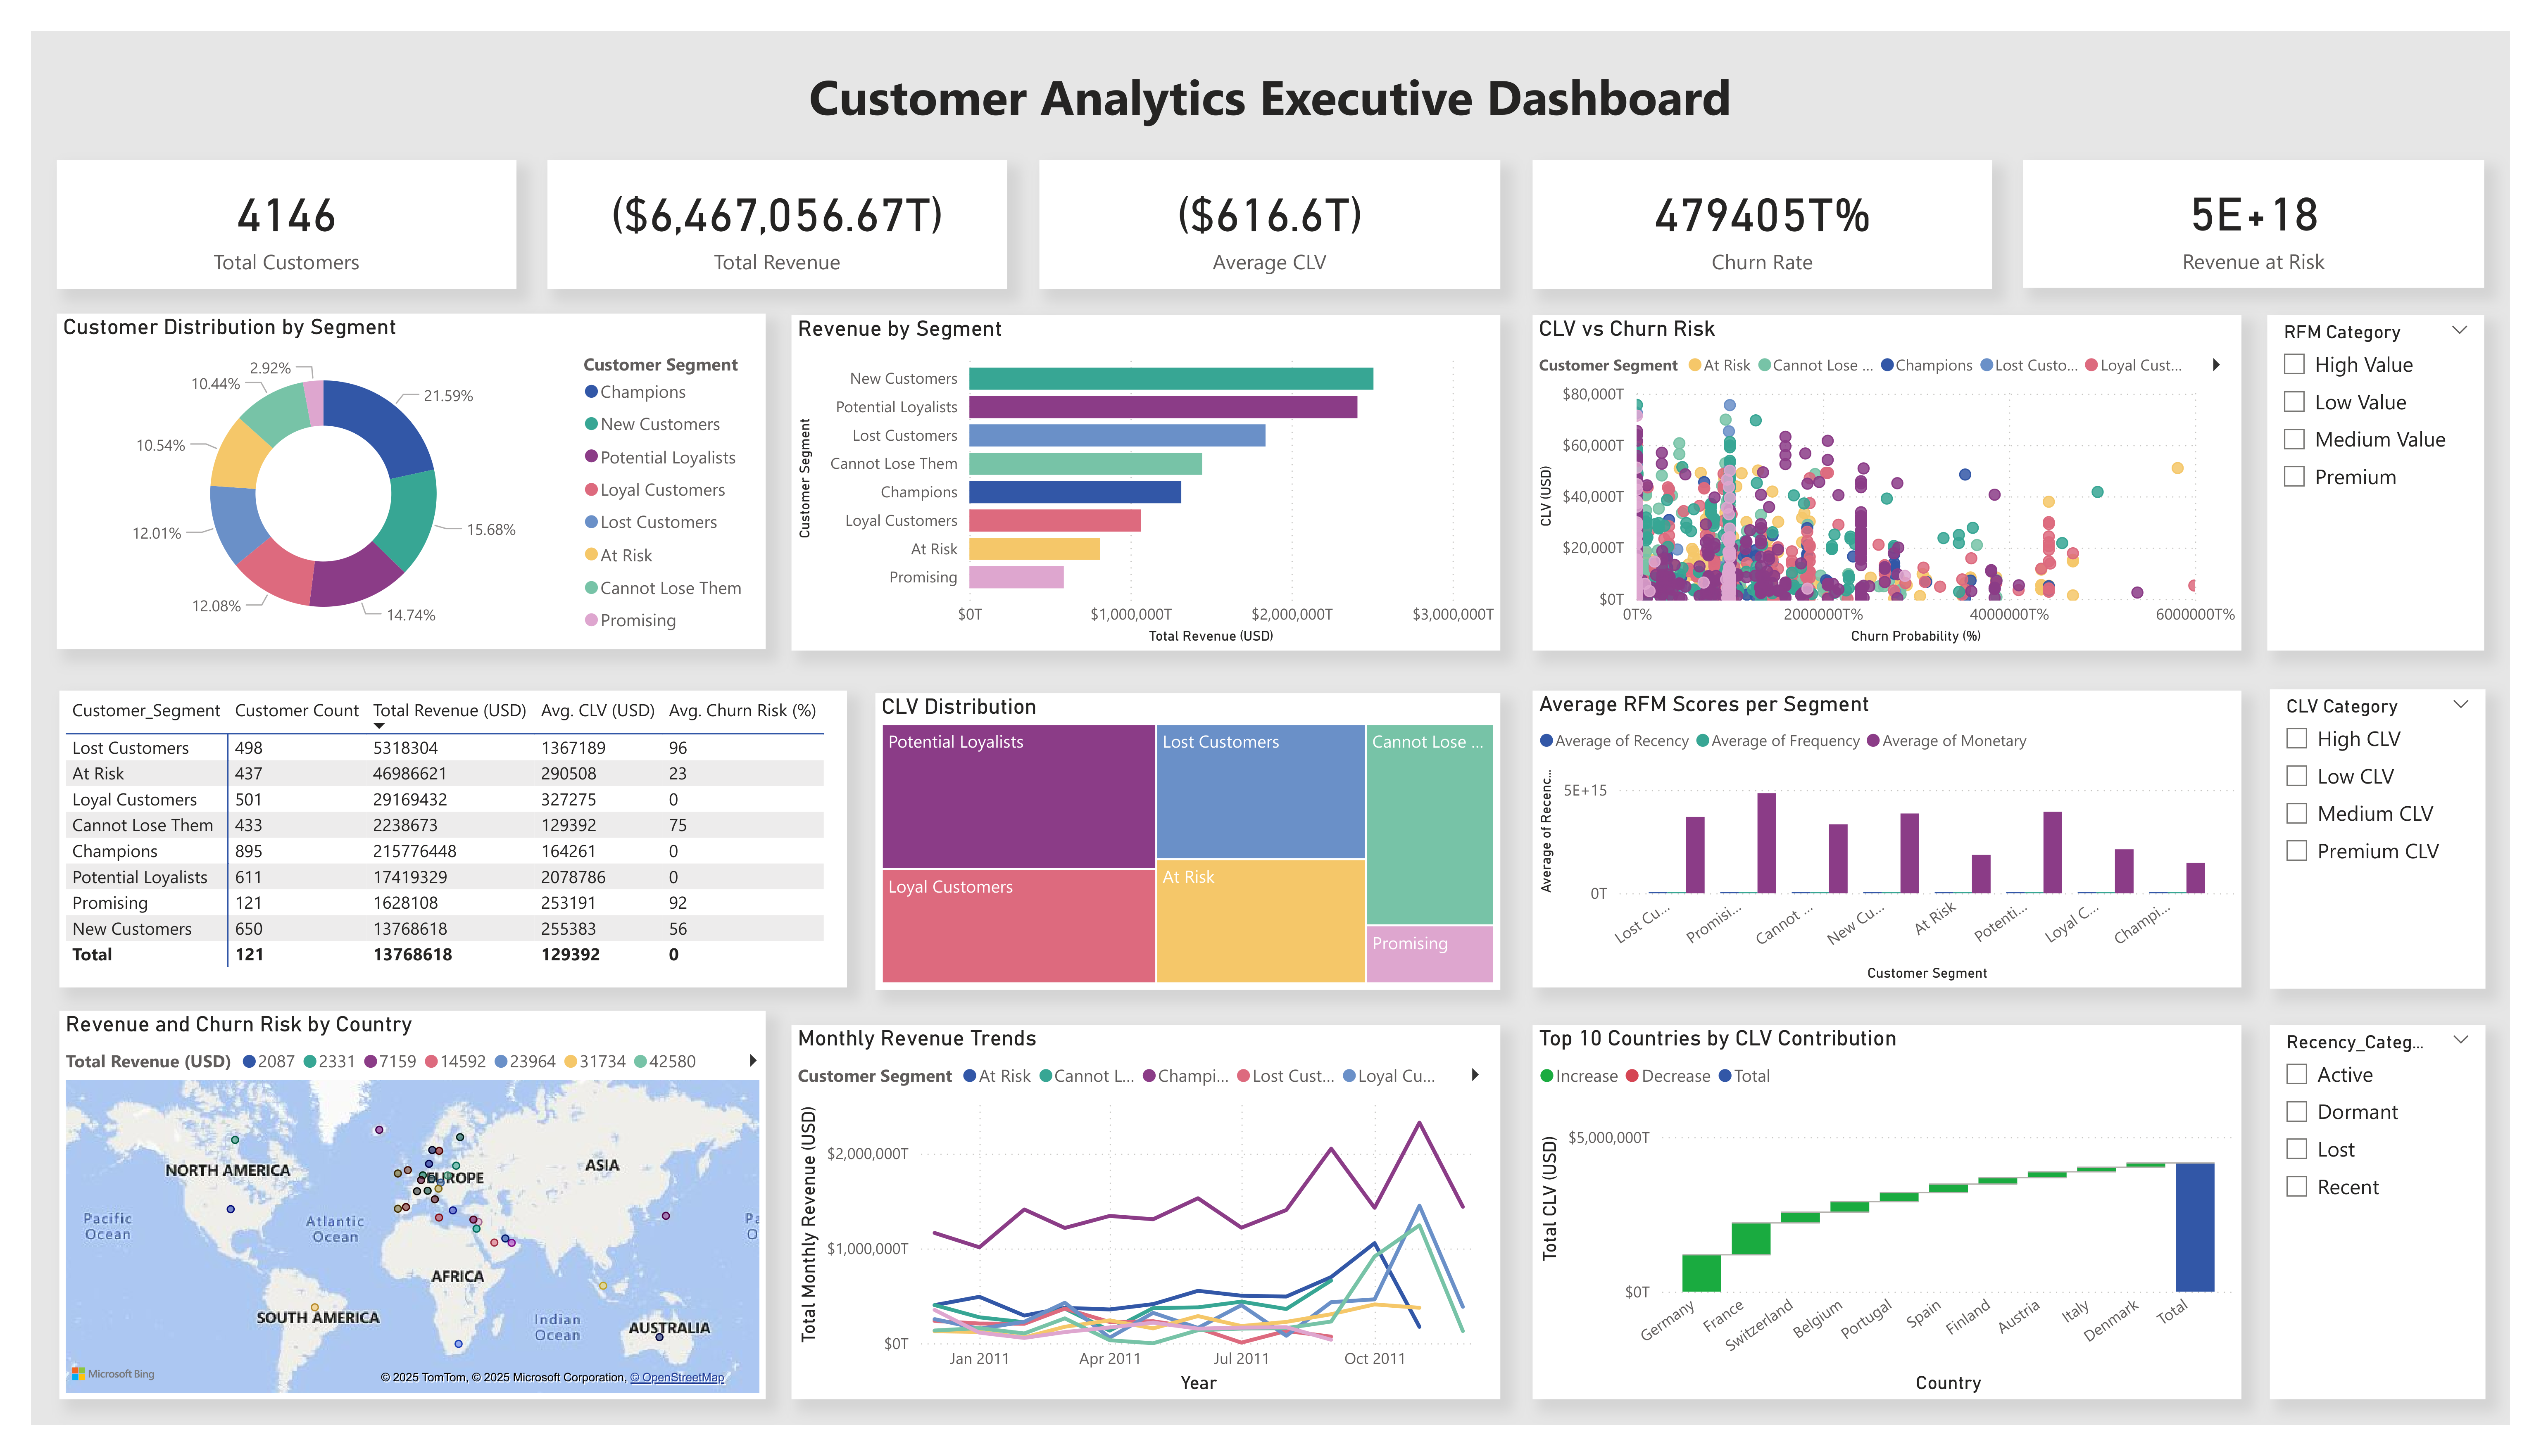

This screenshot's page, from the dashboard's own definition file:
{"tool":"powerbi","page":{"name":"Executive Dashboard","canvas":[1920,1080],"ordinal":0},"visuals":[{"type":"textbox","box":[20,20,1880,60],"z":0},{"type":"card","fields":{"Values":["CountNonNull(powerbi_customer_analysis.CustomerID)"]},"box":[20,100,356,100],"z":1000},{"type":"card","fields":{"Values":["Sum(powerbi_customer_analysis.Monetary)"]},"box":[400.3,100,356,100],"z":2000},{"type":"card","fields":{"Values":["Avg(powerbi_customer_analysis.CLV)"]},"box":[780.7,100,356.8,100],"z":3000},{"type":"card","fields":{"Values":["Avg(powerbi_customer_analysis.Churn_Probability)"]},"box":[1162.9,100,356,100],"z":4000},{"type":"donutChart","title":"Customer Distribution by Segment","fields":{"Category":["powerbi_customer_analysis.Customer_Segment"],"Y":["CountNonNull(powerbi_customer_analysis.CustomerID)"]},"box":[19.9,219.2,548.8,260],"z":5000},{"type":"barChart","title":"Revenue by Segment","fields":{"Category":["powerbi_customer_analysis.Customer_Segment"],"Y":["Sum(powerbi_customer_analysis.Monetary)"],"Series":["powerbi_customer_analysis.Customer_Segment"]},"box":[588.7,220,548.8,260],"z":6000},{"type":"slicer","fields":{"Values":["powerbi_customer_analysis.RFM_Category"]},"box":[1731.6,220,168.5,260],"z":7000},{"type":"card","fields":{"Values":["powerbi_country_analysis.Revenue at Risk"]},"box":[1543.2,99.6,356.8,99.6],"z":8000},{"type":"pivotTable","fields":{"Values":["Min(powerbi_segment_kpis.Customer_Count)","Min(powerbi_segment_kpis.Total_Revenue)","Min(powerbi_segment_kpis.Avg_CLV)","Min(powerbi_segment_kpis.Avg_Churn_Risk)"],"Rows":["powerbi_segment_kpis.Customer_Segment"]},"box":[21.7,510.8,610.4,230],"z":9000},{"type":"treemap","title":"CLV Distribution","fields":{"Group":["powerbi_customer_analysis.Customer_Segment"],"Values":["Sum(powerbi_customer_analysis.CLV)"]},"box":[653.9,512.6,483.6,230],"z":10000},{"type":"scatterChart","title":"CLV vs Churn Risk","fields":{"X":["powerbi_customer_analysis.Churn_Probability"],"Y":["powerbi_customer_analysis.CLV"],"Series":["powerbi_customer_analysis.Customer_Segment"]},"box":[1162.9,220,548.8,260],"z":11000},{"type":"clusteredColumnChart","title":"Average RFM Scores per Segment","fields":{"Category":["powerbi_customer_analysis.Customer_Segment"],"Y":["Avg(powerbi_customer_analysis.Recency)","Avg(powerbi_customer_analysis.Frequency)","Avg(powerbi_customer_analysis.Monetary)"]},"box":[1162.9,510.8,548.8,230],"z":12000},{"type":"map","title":"Revenue and Churn Risk by Country","fields":{"Category":["powerbi_country_analysis.Country"],"Series":["powerbi_country_analysis.Total_Revenue"]},"box":[21.7,758.9,547,300.7],"z":13000},{"type":"lineChart","title":"Monthly Revenue Trends","fields":{"Y":["Sum(powerbi_monthly_cohorts.Monthly_Revenue)"],"Series":["powerbi_monthly_cohorts.Customer_Segment"],"Category":["powerbi_monthly_cohorts.YearMonth.Variation.Date Hierarchy.Year","powerbi_monthly_cohorts.YearMonth.Variation.Date Hierarchy.Quarter","powerbi_monthly_cohorts.YearMonth.Variation.Date Hierarchy.Month","powerbi_monthly_cohorts.YearMonth.Variation.Date Hierarchy.Day"]},"box":[588.7,769.8,548.8,289.8],"z":14000},{"type":"waterfallChart","title":"Top 10 Countries by CLV Contribution","fields":{"Category":["powerbi_country_analysis.Country"],"Y":["Sum(powerbi_customer_analysis.CLV)"]},"box":[1162.9,769.8,548.8,289.8],"z":15000},{"type":"slicer","fields":{"Values":["powerbi_monthly_cohorts.CLV_Category"]},"box":[1733.6,510.1,167.5,231.5],"z":16000},{"type":"slicer","fields":{"Values":["powerbi_customer_analysis.Recency_Category"]},"box":[1733.6,769.9,167.5,289.9],"z":17000}]}

Visuals, with their boxes in screenshot pixels (x1, y1, x2, y2):
textbox: <bbox>57, 57, 2484, 134</bbox>
card - CountNonNull(powerbi_customer_analysis.CustomerID): <bbox>57, 160, 516, 289</bbox>
card - Sum(powerbi_customer_analysis.Monetary): <bbox>548, 160, 1007, 289</bbox>
card - Avg(powerbi_customer_analysis.CLV): <bbox>1039, 160, 1500, 289</bbox>
card - Avg(powerbi_customer_analysis.Churn_Probability): <bbox>1532, 160, 1992, 289</bbox>
"Customer Distribution by Segment" donutChart: <bbox>57, 314, 765, 649</bbox>
"Revenue by Segment" barChart: <bbox>791, 315, 1500, 651</bbox>
slicer - powerbi_customer_analysis.RFM_Category: <bbox>2267, 315, 2484, 651</bbox>
card - powerbi_country_analysis.Revenue at Risk: <bbox>2024, 159, 2484, 288</bbox>
pivotTable - Min(powerbi_segment_kpis.Customer_Count) x Min(powerbi_segment_kpis.Total_Revenue): <bbox>59, 690, 847, 987</bbox>
"CLV Distribution" treemap: <bbox>875, 693, 1500, 990</bbox>
"CLV vs Churn Risk" scatterChart: <bbox>1532, 315, 2241, 651</bbox>
"Average RFM Scores per Segment" clusteredColumnChart: <bbox>1532, 690, 2241, 987</bbox>
"Revenue and Churn Risk by Country" map: <bbox>59, 1011, 765, 1399</bbox>
"Monthly Revenue Trends" lineChart: <bbox>791, 1025, 1500, 1399</bbox>
"Top 10 Countries by CLV Contribution" waterfallChart: <bbox>1532, 1025, 2241, 1399</bbox>
slicer - powerbi_monthly_cohorts.CLV_Category: <bbox>2269, 689, 2486, 988</bbox>
slicer - powerbi_customer_analysis.Recency_Category: <bbox>2269, 1025, 2486, 1399</bbox>
